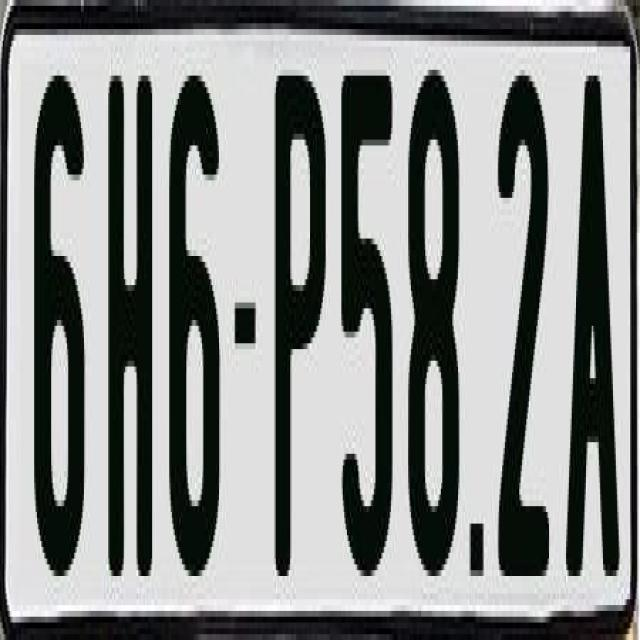2: (496, 58, 555, 582)
5: (342, 63, 399, 600)
6: (29, 75, 82, 588), (168, 58, 218, 564)
8: (408, 64, 465, 570)
A: (564, 70, 618, 570)
H: (106, 58, 150, 576)
P: (274, 64, 334, 588)
